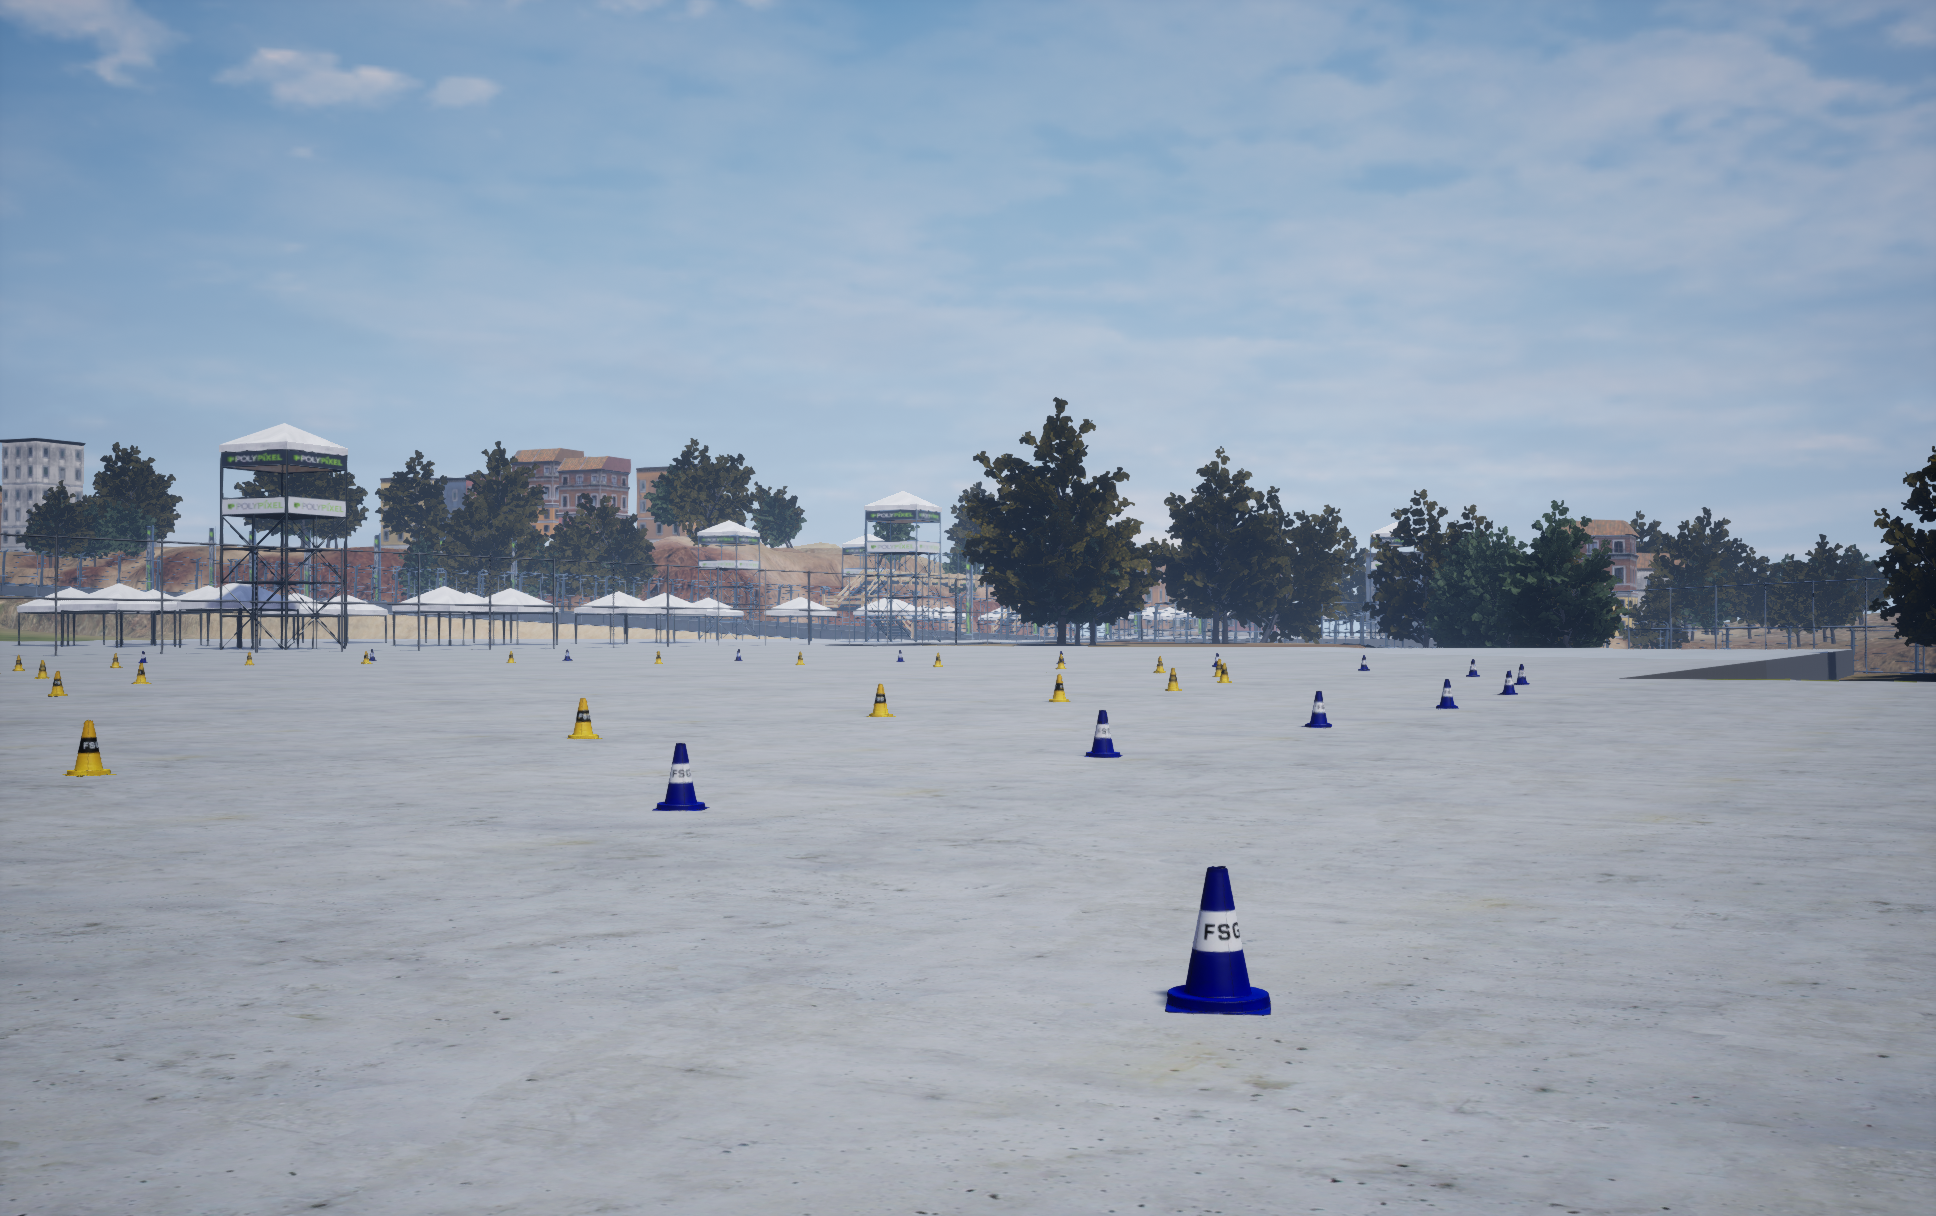blue: (62, 720, 116, 776), (567, 698, 602, 738), (866, 684, 895, 716), (1049, 674, 1070, 700), (48, 671, 67, 696), (132, 663, 151, 684), (1166, 668, 1181, 691), (1217, 663, 1231, 682)
yellow: (1166, 866, 1271, 1016), (651, 742, 709, 810), (1084, 710, 1122, 756), (1301, 691, 1331, 727), (1436, 679, 1458, 707), (1498, 670, 1517, 693), (1514, 664, 1528, 684)
